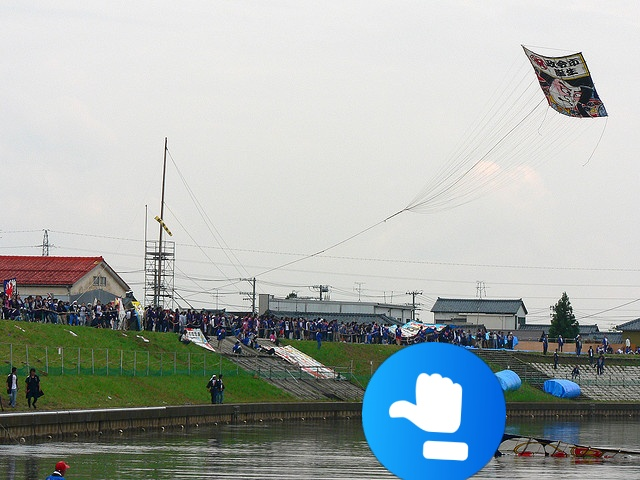like: (362, 342, 506, 480)
